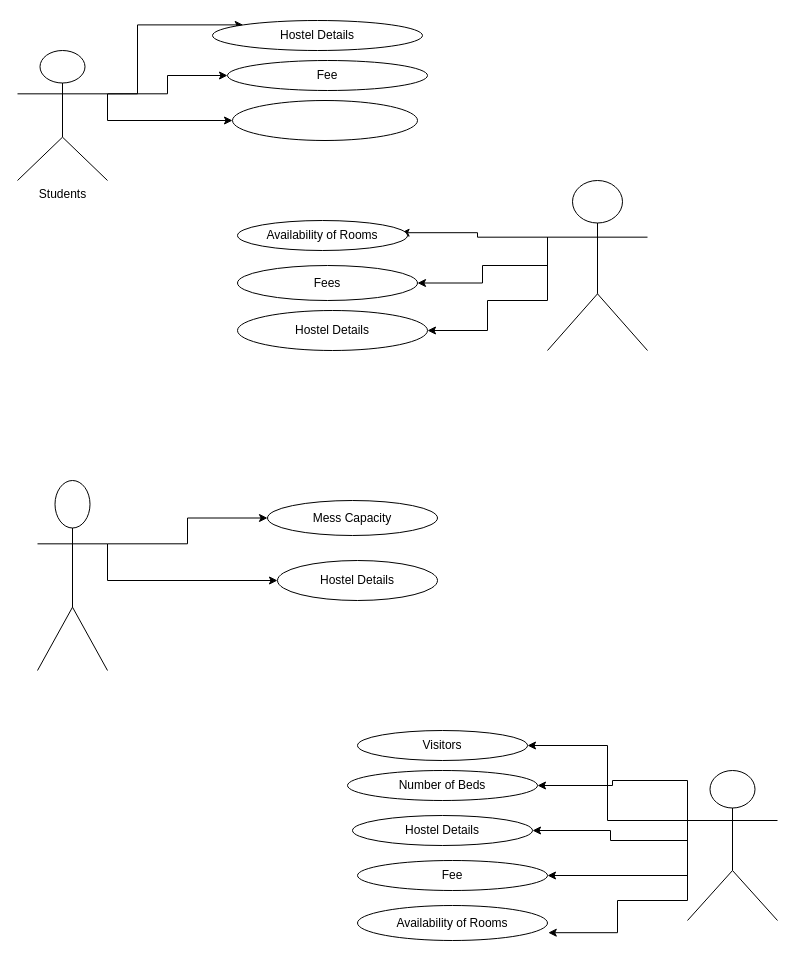
This 795x974 diagram has some shape labels left out. Each missing label, with the centre of its shape:
Hostel Staff: point 732,845
Management: point 597,265
Mess Department: point 72,575
Payment Dtails: point 325,120
